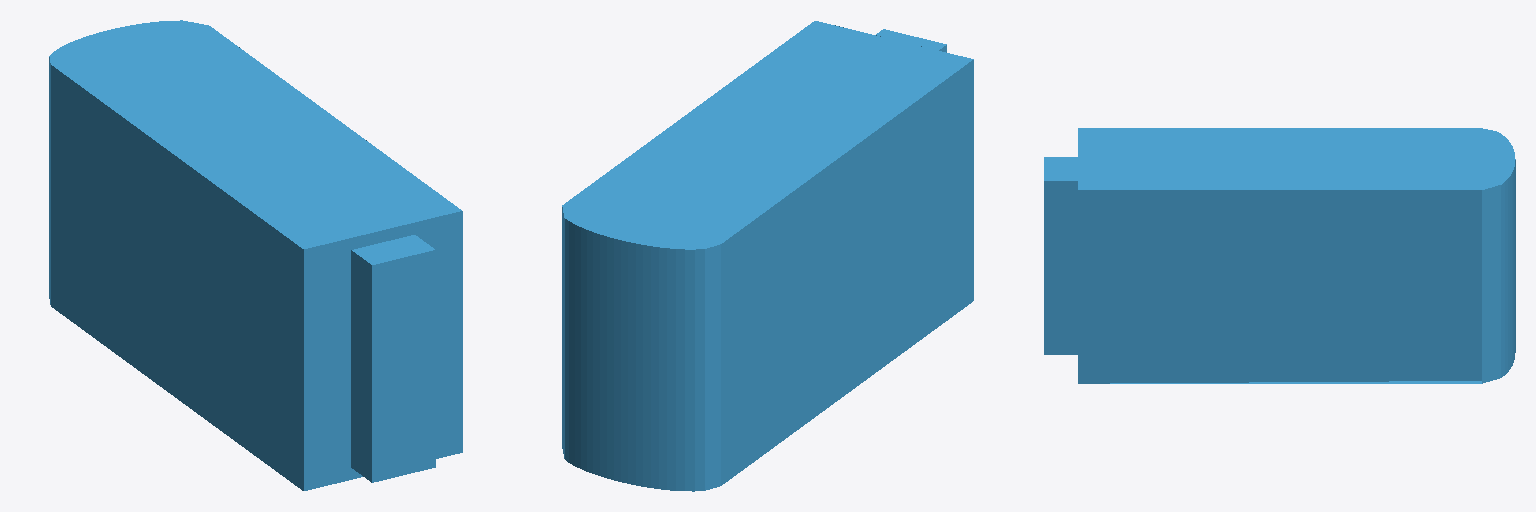
The robot description file, URDF, robot "3v3_45.0.27.5.27.5_45.0.27.5.27.5_0.975.1_54":
<?xml version="1.0" ?>
<robot name="3v3_45.0.27.5.27.5_45.0.27.5.27.5_0.975.1_54">

    <link name="palm">
        <visual>
            <origin rpy="0 0 0" xyz="0 0 0"/>
            <geometry>
                <mesh filename="obj_files/palm.obj" scale="1 1 1"/>
            </geometry>
        </visual>
        <collision>
            <geometry>
                <mesh filename="obj_files/palm_collision.obj" scale="1 1 1"/>
            </geometry>
        </collision>
    </link>

    <link name="finger0_segment0">
        <visual>
            <origin rpy="0 0 0" xyz="0 0 0"/>
            <geometry>
                <mesh filename="obj_files/finger0_segment0.obj" scale="1 1 1"/>
            </geometry>
        </visual>
        <collision>
            <geometry>
                <mesh filename="obj_files/finger0_segment0_collision.obj" scale="1 1 1"/>
            </geometry>
        </collision>
    </link>

    <joint name="finger0_segment0_joint" type="revolute">
        <parent link="palm"/>
        <child link="finger0_segment0"/>
        <origin rpy="0 0 0" xyz="0.027 0 0.0"/>
        <axis xyz="0 0 1"/>
        <limit effort="1000.0" lower="-3.14" upper="3.14" velocity="0.5"/>
    </joint>

    <link name="finger0_segment1">
        <visual>
            <origin rpy="0 0 0" xyz="0 0 0"/>
            <geometry>
                <mesh filename="obj_files/finger0_segment1.obj" scale="1 1 1"/>
            </geometry>
        </visual>
        <collision>
            <geometry>
                <mesh filename="obj_files/finger0_segment1_collision.obj" scale="1 1 1"/>
            </geometry>
        </collision>
    </link>

    <joint name="finger0_segment1_joint" type="revolute">
        <parent link="finger0_segment0"/>
        <child link="finger0_segment1"/>
        <origin rpy="0 0 0" xyz="0 0.06562025316455695 0"/>
        <axis xyz="0 0 1"/>
        <limit effort="1000.0" lower="-3.14" upper="3.14" velocity="0.5"/>
    </joint>

    <link name="finger0_segment2">
        <visual>
            <origin rpy="0 0 0" xyz="0 0 0"/>
            <geometry>
                <mesh filename="obj_files/finger0_segment2.obj" scale="1 1 1"/>
            </geometry>
        </visual>
        <collision>
            <geometry>
                <mesh filename="obj_files/finger0_segment2_collision.obj" scale="1 1 1"/>
            </geometry>
        </collision>
    </link>

    <joint name="finger0_segment2_joint" type="revolute">
        <parent link="finger0_segment1"/>
        <child link="finger0_segment2"/>
        <origin rpy="0 0 0" xyz="0 0.04010126582278481 0"/>
        <axis xyz="0 0 1"/>
        <limit effort="1000.0" lower="-3.14" upper="3.14" velocity="0.5"/>
    </joint>

    <link name="finger1_segment0">
        <visual>
            <origin rpy="0 0 0" xyz="0 0 0"/>
            <geometry>
                <mesh filename="obj_files/finger1_segment0.obj" scale="1 1 1"/>
            </geometry>
        </visual>
        <collision>
            <geometry>
                <mesh filename="obj_files/finger1_segment0_collision.obj" scale="1 1 1"/>
            </geometry>
        </collision>
    </link>

    <joint name="finger1_segment0_joint" type="revolute">
        <parent link="palm"/>
        <child link="finger1_segment0"/>
        <origin rpy="0 0 0" xyz="-0.027 0 3.3065463576978537e-18"/>
        <axis xyz="0 0 1"/>
        <limit effort="1000.0" lower="-3.14" upper="3.14" velocity="0.5"/>
    </joint>

    <link name="finger1_segment1">
        <visual>
            <origin rpy="0 0 0" xyz="0 0 0"/>
            <geometry>
                <mesh filename="obj_files/finger1_segment1.obj" scale="1 1 1"/>
            </geometry>
        </visual>
        <collision>
            <geometry>
                <mesh filename="obj_files/finger1_segment1_collision.obj" scale="1 1 1"/>
            </geometry>
        </collision>
    </link>

    <joint name="finger1_segment1_joint" type="revolute">
        <parent link="finger1_segment0"/>
        <child link="finger1_segment1"/>
        <origin rpy="0 0 0" xyz="0 0.06397974683544302 0"/>
        <axis xyz="0 0 1"/>
        <limit effort="1000.0" lower="-3.14" upper="3.14" velocity="0.5"/>
    </joint>

    <link name="finger1_segment2">
        <visual>
            <origin rpy="0 0 0" xyz="0 0 0"/>
            <geometry>
                <mesh filename="obj_files/finger1_segment2.obj" scale="1 1 1"/>
            </geometry>
        </visual>
        <collision>
            <geometry>
                <mesh filename="obj_files/finger1_segment2_collision.obj" scale="1 1 1"/>
            </geometry>
        </collision>
    </link>

    <joint name="finger1_segment2_joint" type="revolute">
        <parent link="finger1_segment1"/>
        <child link="finger1_segment2"/>
        <origin rpy="0 0 0" xyz="0 0.03909873417721518 0"/>
        <axis xyz="0 0 1"/>
        <limit effort="1000.0" lower="-3.14" upper="3.14" velocity="0.5"/>
    </joint>

</robot>

--- What the picture shows (computed from the rendered views, not written in the file) ---
The picture shows the robot from 3 angles, left to right: view 1: azimuth 30°, elevation 25°; view 2: azimuth 150°, elevation 25°; view 3: azimuth 270°, elevation 25°; orthographic projection.
Model 3v3_45.0.27.5.27.5_45.0.27.5.27.5_0.975.1_54 with 7 links and 6 joints (6 revolute), rooted at palm, posed all joints at 0.
Visible links, largest first — view 1: finger0_segment0; view 2: finger0_segment0; view 3: finger0_segment0.
Link boxes in pixels (box(x1,y1,x2,y2)): finger0_segment0: box(49, 20, 462, 490); finger0_segment0: box(562, 21, 973, 491); finger0_segment0: box(1044, 128, 1515, 383).
Size in the robot's own frame: 0.022 by 0.0706 by 0.032 metres.
1 mesh visuals loaded from 7 distinct referenced files (1 OBJ); not drawn: 6 (reference not matched to a file when rendering).